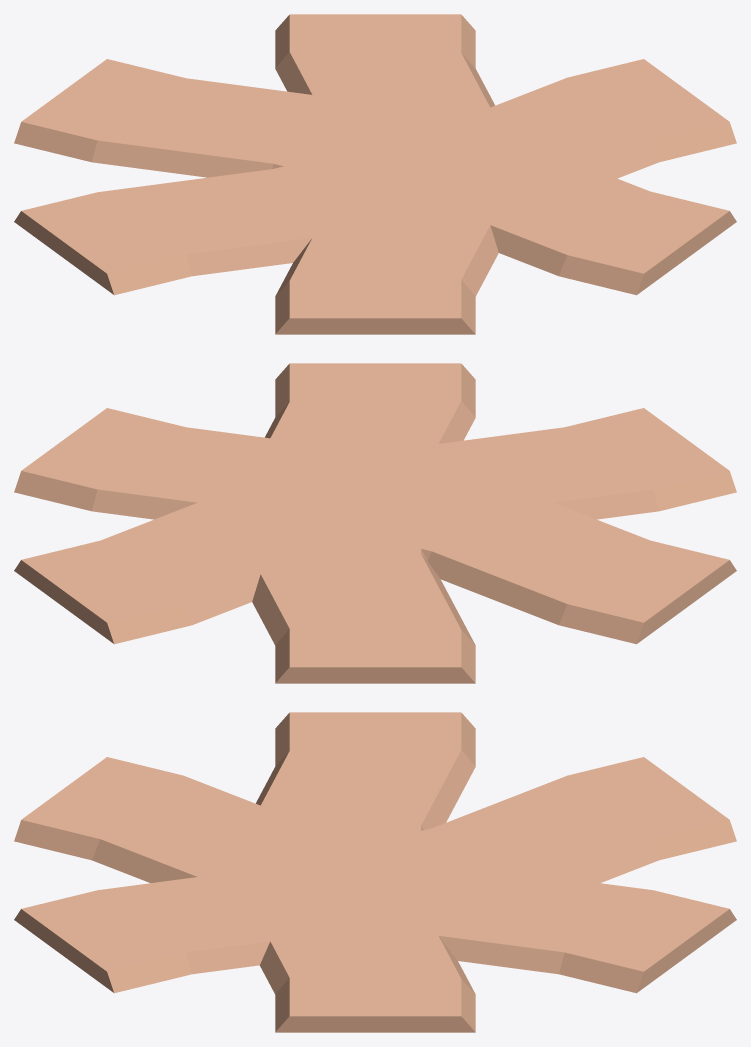
File: path_crossing.glb
3 renders of one model, top to bottom at view 1: azimuth 30°, elevation 25°; view 2: azimuth 150°, elevation 25°; view 3: azimuth 270°, elevation 25°, orthographic.
Parts seen in each view (by area): view 1: path_crossing; view 2: path_crossing; view 3: path_crossing.
Part boxes in pixels (bbox=[...]): path_crossing: bbox=[14, 14, 736, 334]; path_crossing: bbox=[14, 363, 736, 683]; path_crossing: bbox=[14, 712, 736, 1032].
Size of the model in its own units: 1 by 0.025 by 1.01.
